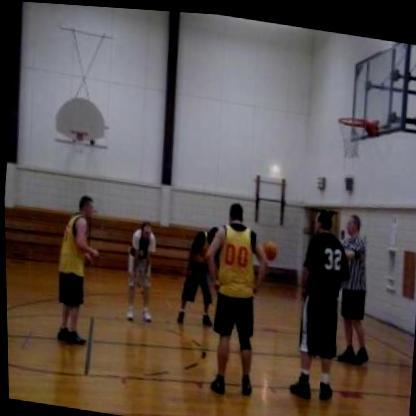basketball: (254, 230, 285, 260)
